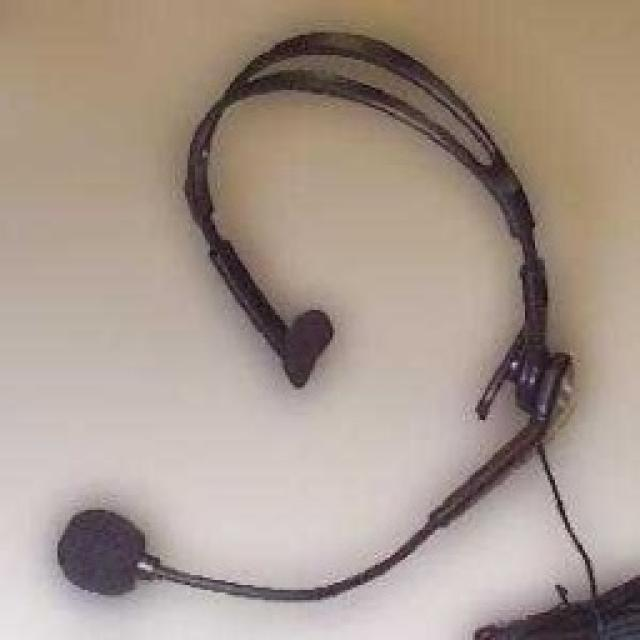kulaklik: (0, 0, 600, 625)
